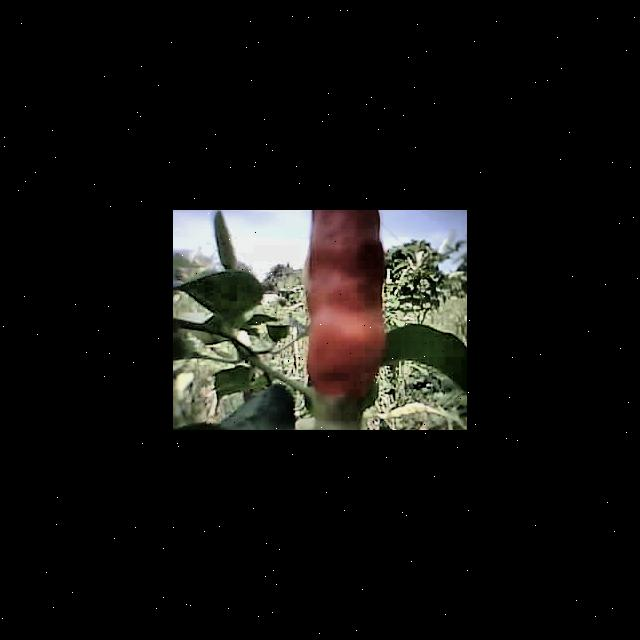Cabai: (308, 210, 390, 404)
